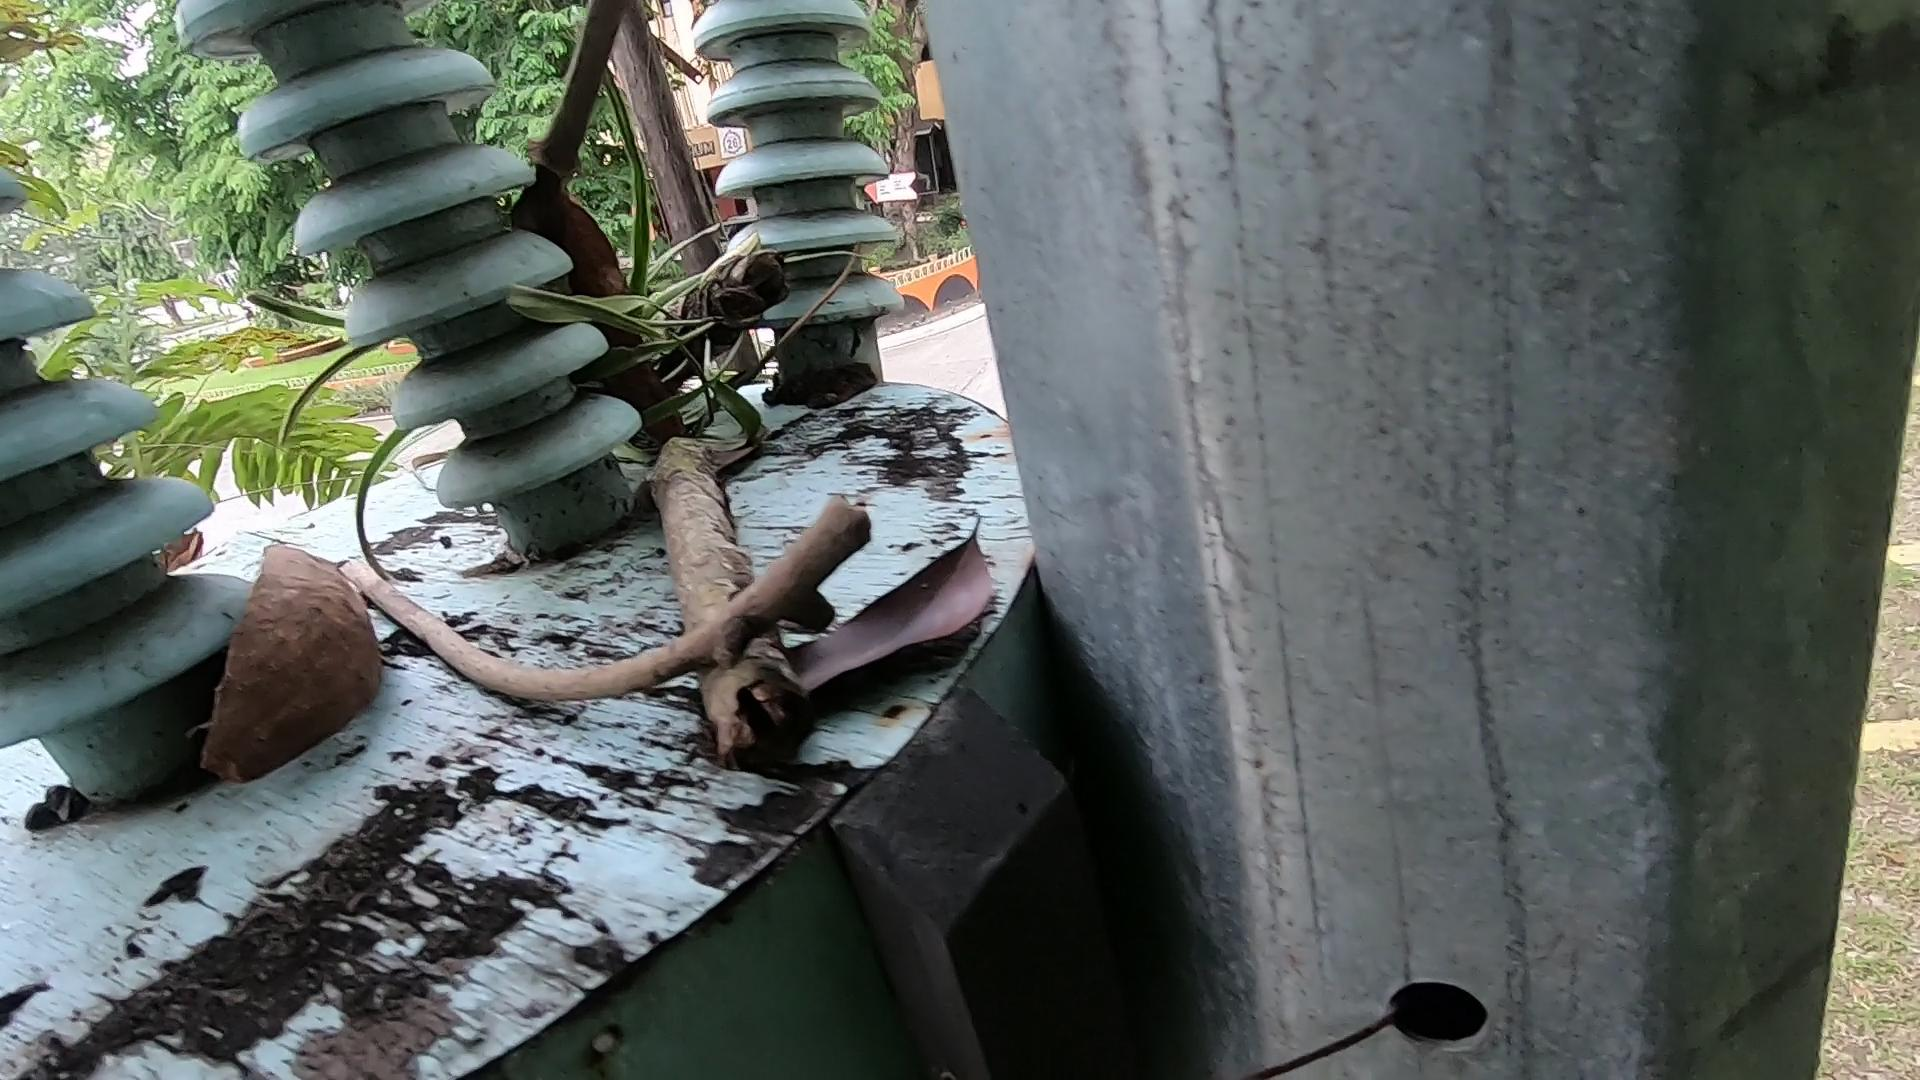branch with leaves: (560, 146, 876, 753)
leaf: (785, 527, 1021, 738)
mahogany fruit: (510, 175, 680, 484), (220, 498, 364, 808)
tree branch: (281, 502, 812, 798), (524, 1, 665, 291)
